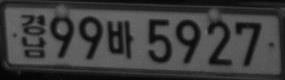2: (207, 19, 233, 66)
5: (146, 17, 173, 65)
7: (234, 21, 262, 66)
9: (77, 15, 104, 60), (175, 18, 201, 64), (48, 15, 74, 58)
경남_V: (20, 13, 47, 59)
바: (106, 19, 134, 59)
